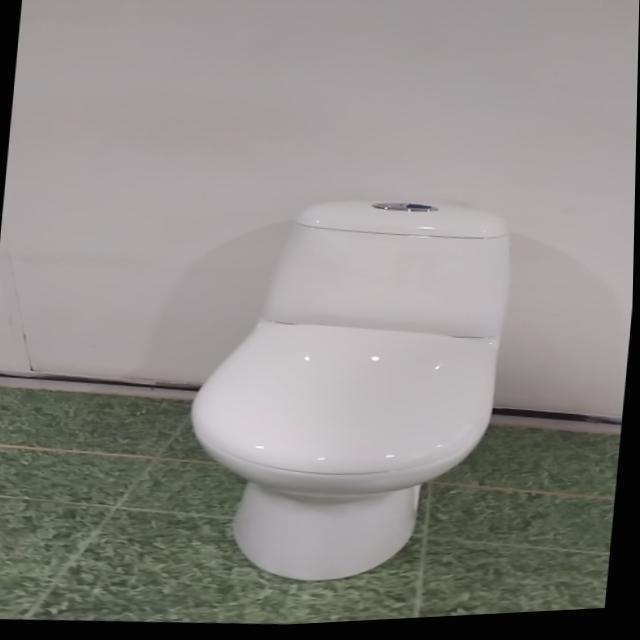toilet: (176, 186, 519, 601)
